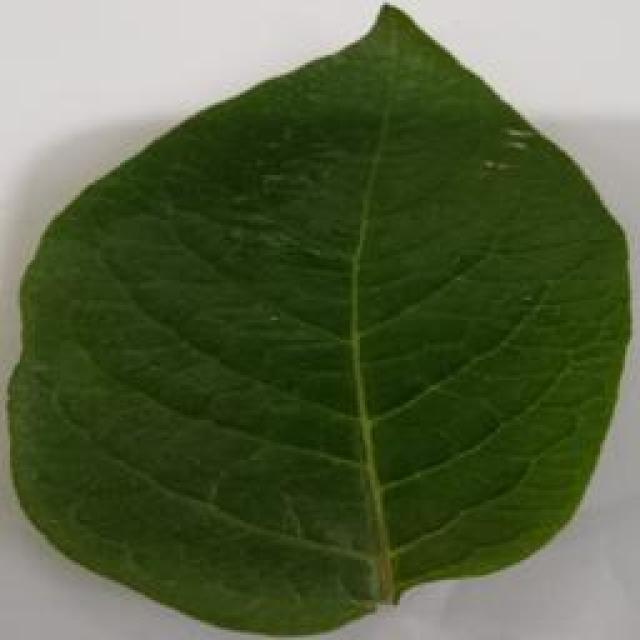Potato_Healthy: (8, 5, 623, 632)
